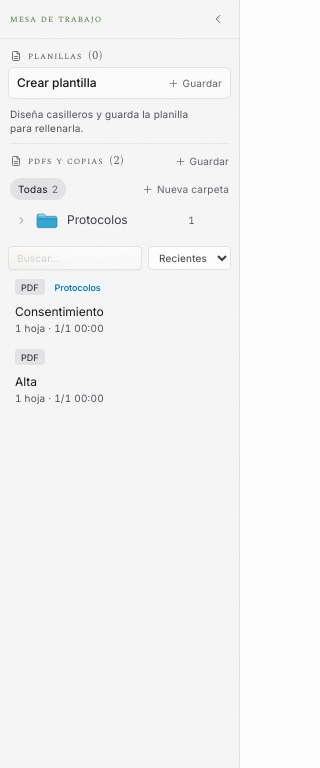
Test: <WorkspacePanel /> · planillas › filtra por carpeta y permite volver a Todas
The width and height of the screenshot is (320, 768).
Expected: the text "Consentimiento" is shown, [15,304,104,319]
Expected: the text "Alta" is shown, [15,374,37,389]
Click the button with aria-label "Abrir carpeta Protocolos": (106, 220) [10,204,201,236]
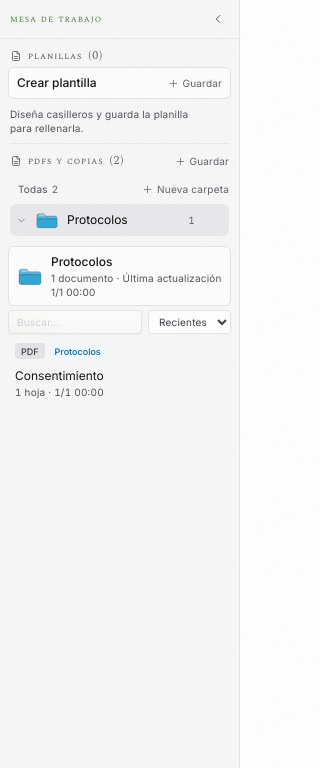
Expected: the text "Consentimiento" is shown, [15,368,104,383]
Expected: the button "Alta" is gone
Click the button with aria-label "Mostrar todas las copias": (38, 189) [10,178,66,200]
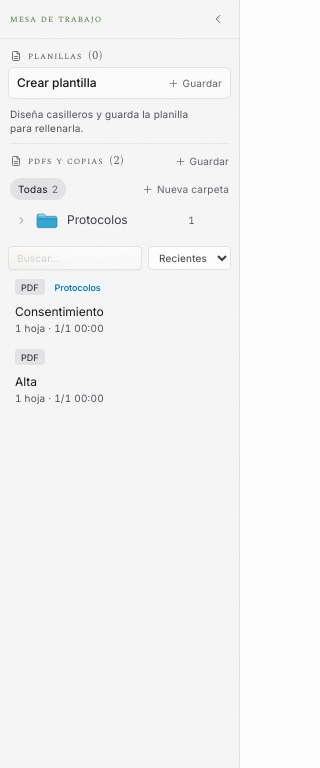
Expected: the text "Consentimiento" is shown, [15,304,104,319]
Expected: the text "Alta" is shown, [15,374,37,389]
